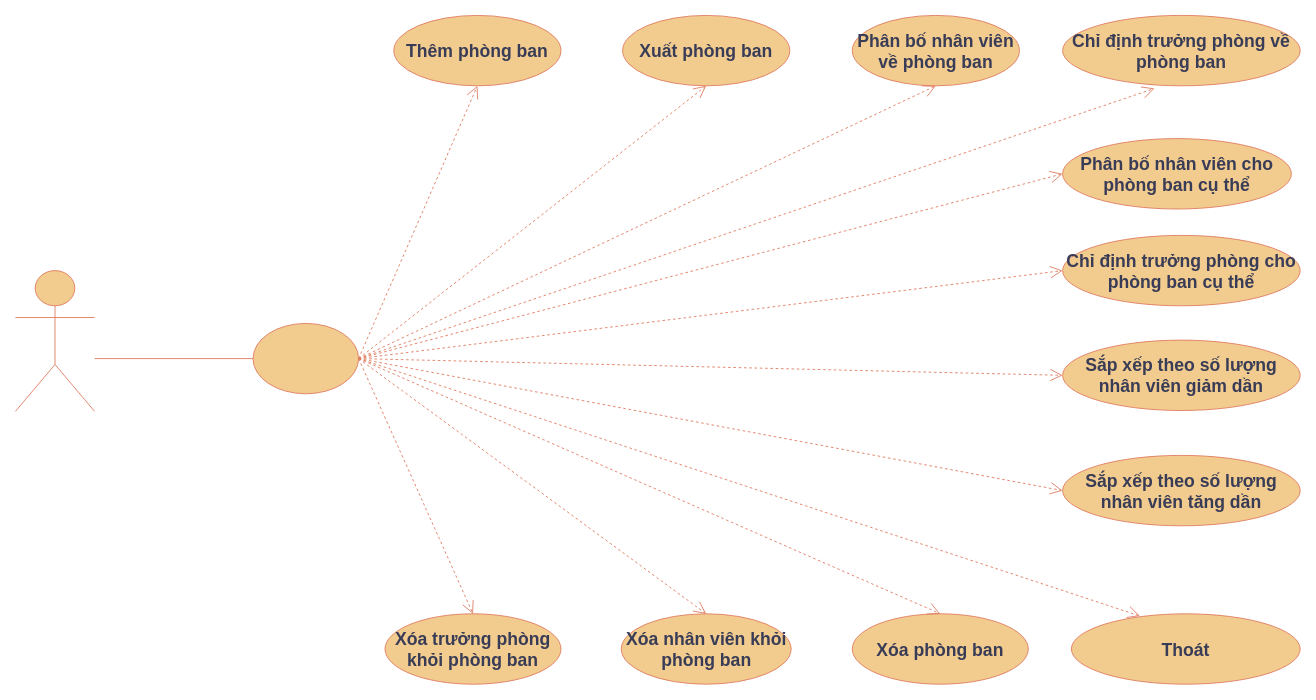
Some shapes in this 1316 by 700 pixel diagram are drawn without their labels. Here are the shapes that lost their labels. From the top down, the centre of each, then its label:
At [55,340]: "Admin".
At [305,358]: "Quản lý phòng ban".
